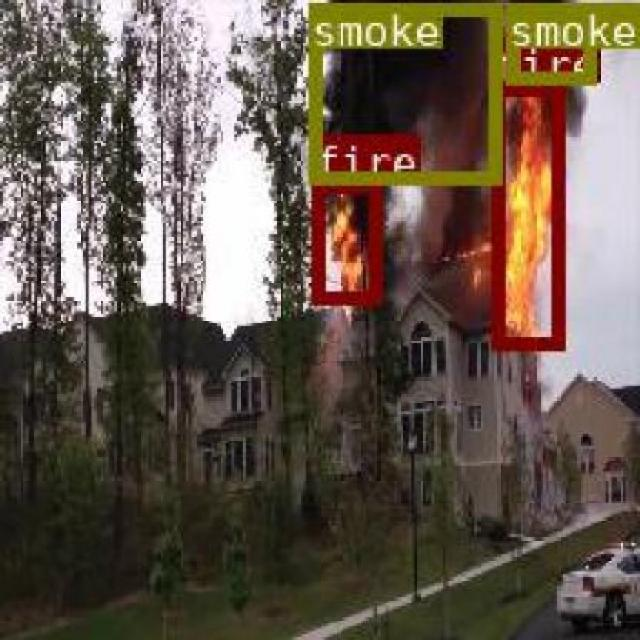Fire: (489, 80, 562, 348), (311, 179, 378, 301)
Smoke: (308, 0, 500, 182), (505, 0, 593, 80)
